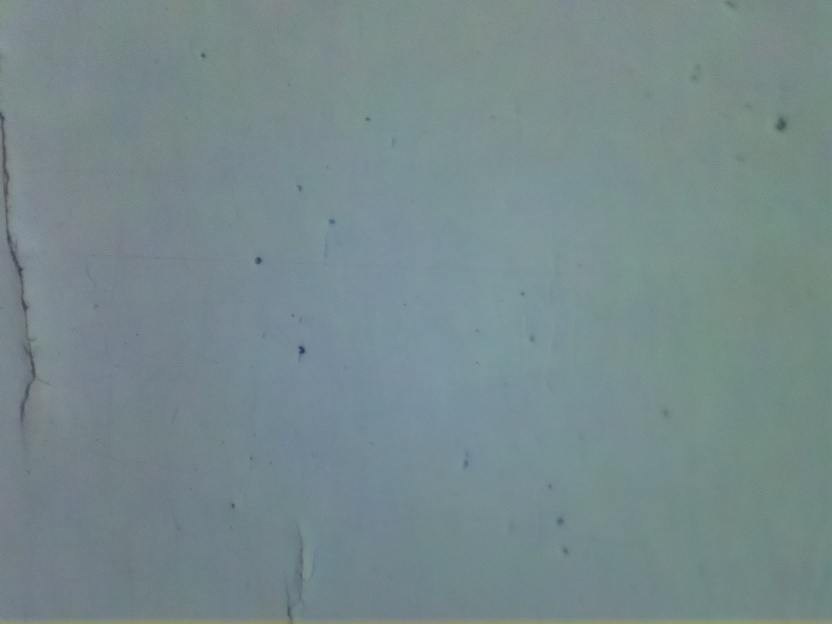crack: (0, 106, 46, 418), (287, 531, 323, 624)
